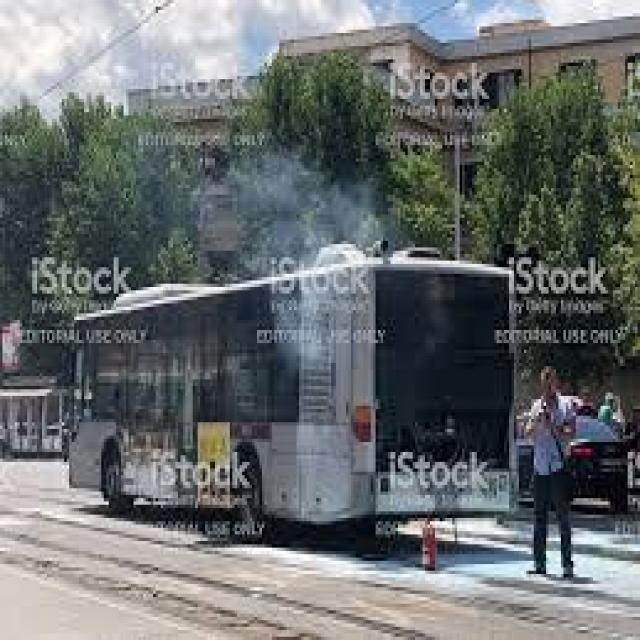Smoke: (218, 150, 390, 394)
